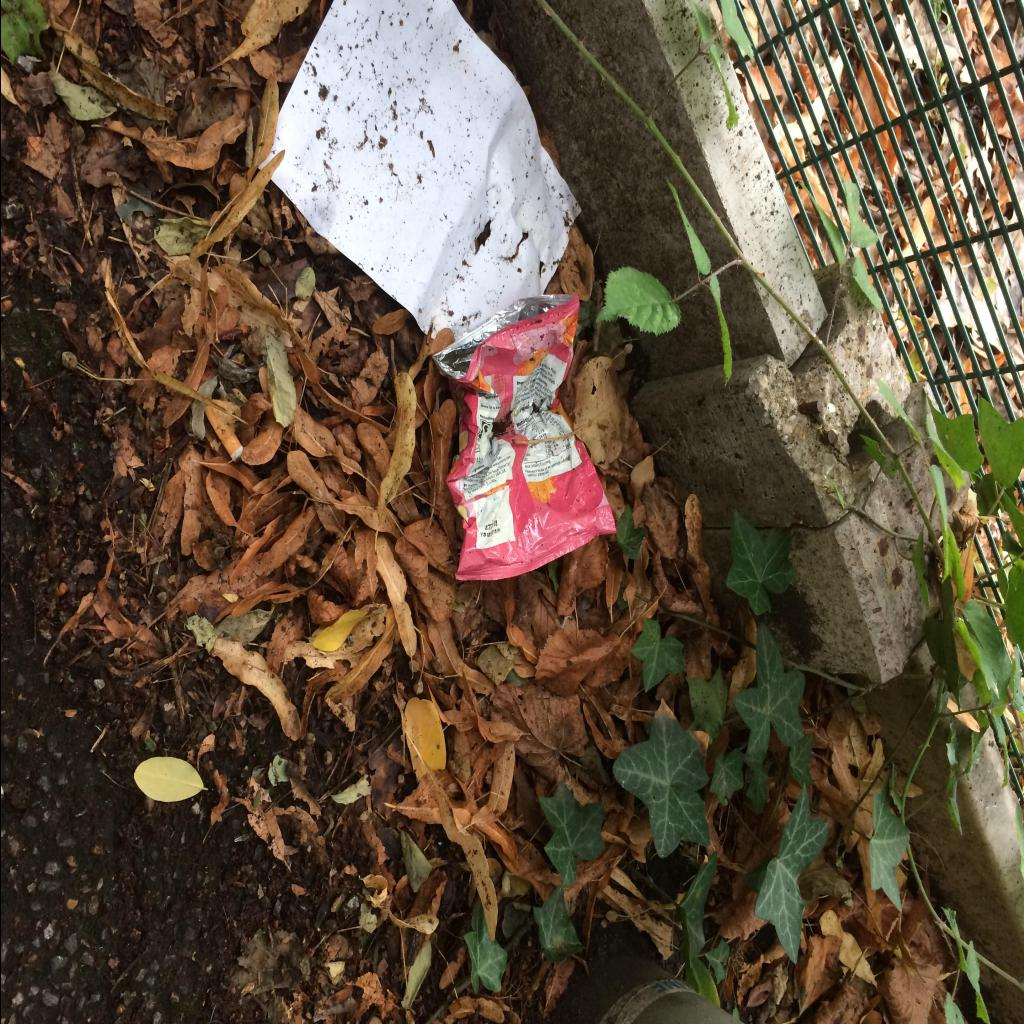Cigarette: (202, 405, 242, 463)
Crisp packet: (430, 294, 616, 580)
Normal paper: (258, 0, 580, 340)
